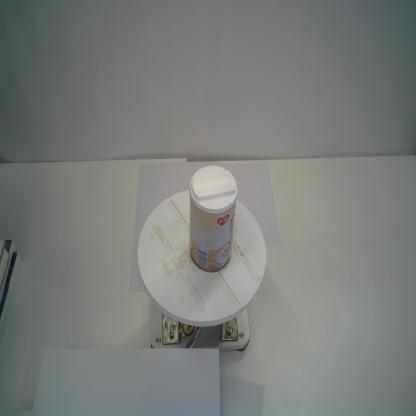Canned Food: (187, 164, 239, 274)
